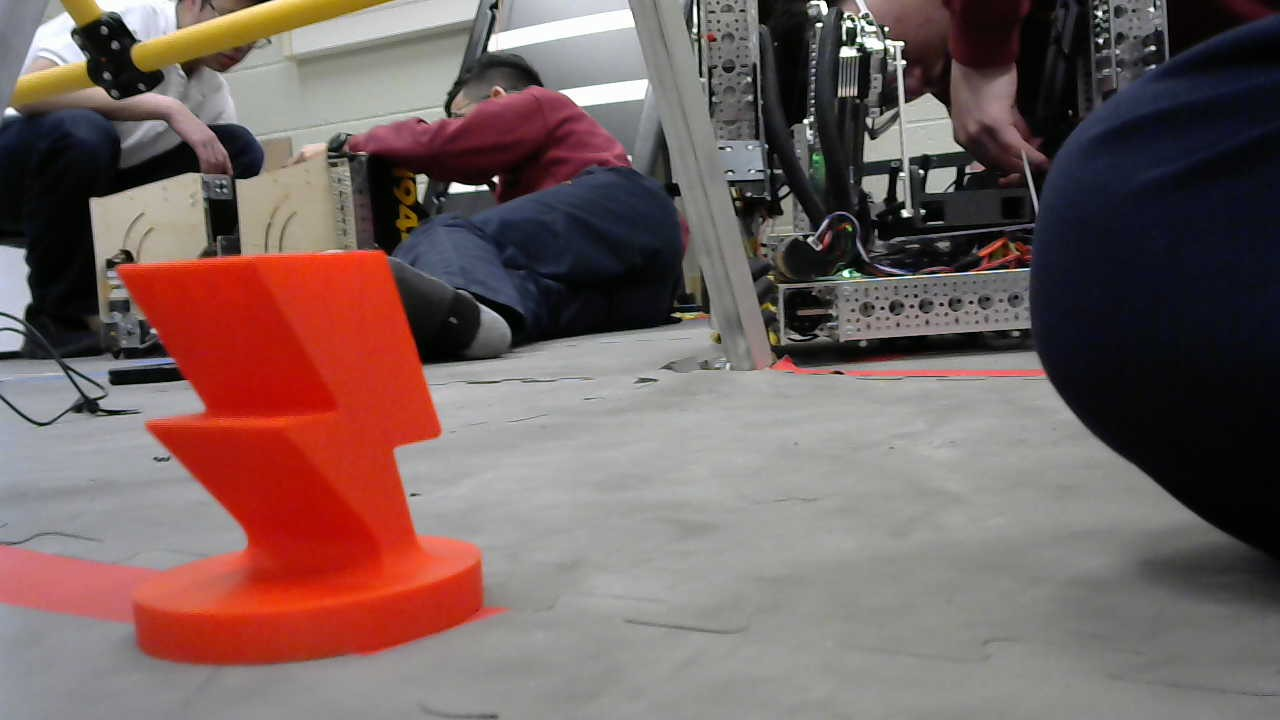redobject: (113, 248, 487, 676)
